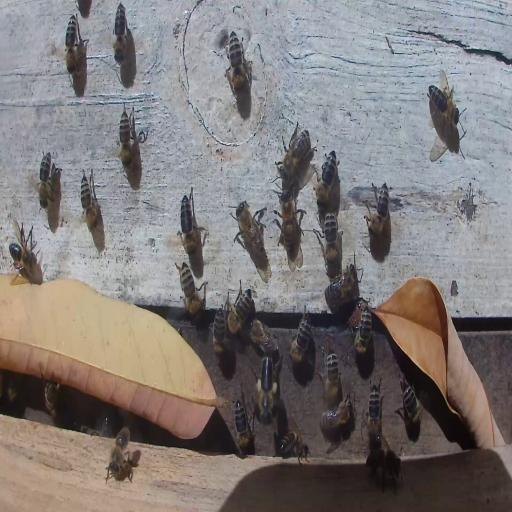bee: (275, 120, 313, 180), (232, 201, 266, 259), (177, 193, 207, 258), (255, 351, 279, 425), (176, 261, 206, 318), (364, 444, 402, 489), (427, 80, 461, 130), (365, 180, 391, 241), (79, 166, 101, 235), (278, 188, 300, 257), (226, 32, 250, 94), (320, 397, 356, 438), (224, 282, 252, 334), (8, 232, 40, 276), (325, 261, 356, 306), (315, 150, 338, 208), (319, 211, 341, 271), (398, 377, 423, 429), (290, 308, 312, 365), (320, 346, 340, 404), (351, 304, 373, 354), (280, 428, 310, 464), (233, 398, 251, 458), (248, 318, 277, 355), (366, 380, 382, 443), (110, 426, 129, 478), (118, 105, 132, 171), (38, 150, 53, 209), (64, 13, 78, 76), (113, 2, 127, 63), (213, 307, 227, 357), (44, 379, 59, 420)
